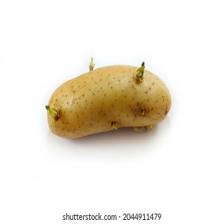Sprouted potato: (45, 50, 173, 142)
